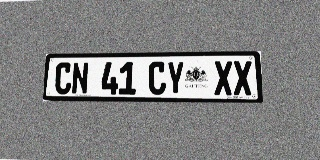1: (118, 62, 136, 95)
4: (101, 62, 119, 95)
C: (148, 61, 166, 95), (54, 62, 72, 94)
N: (71, 62, 89, 94)
X: (233, 61, 253, 95), (214, 61, 233, 95)
Y: (167, 61, 184, 95)
